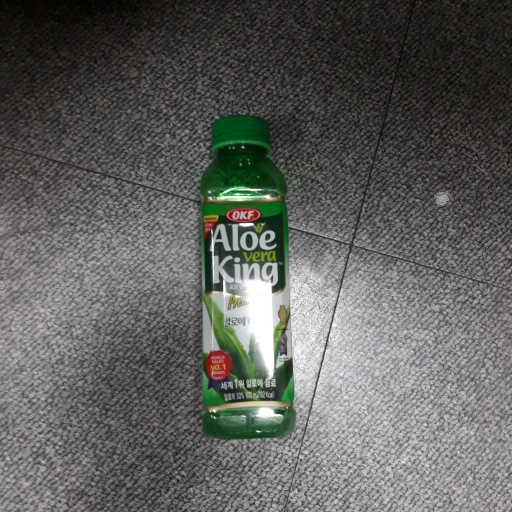Plastic_0: (193, 115, 298, 437)
